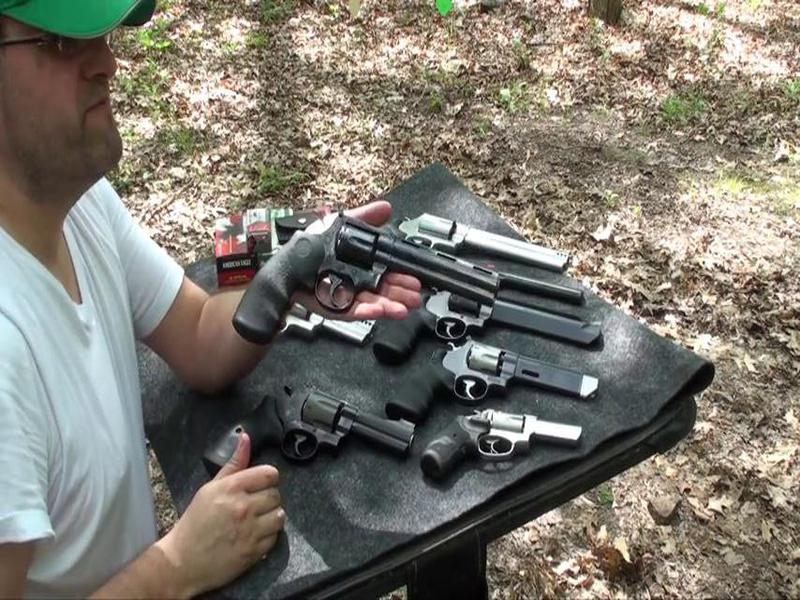Revolver: (226, 210, 487, 361)
